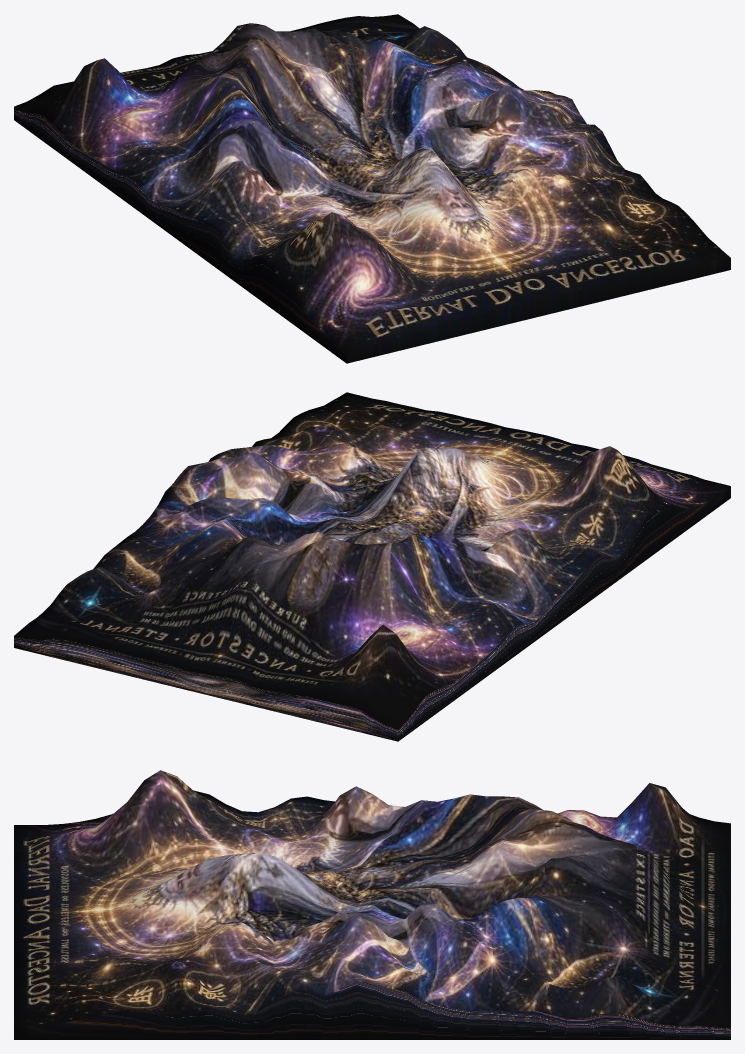
File: REALM_12_Eternal_Dao_Ancestor.glb
3 views of the same model, one above another, from view 1: azimuth 30°, elevation 25°; view 2: azimuth 150°, elevation 25°; view 3: azimuth 270°, elevation 25° (orthographic). The views are drawn at different scales.
Parts seen in each view (by area): view 1: REALM_12_Eternal_Dao_Ancestor; view 2: REALM_12_Eternal_Dao_Ancestor; view 3: REALM_12_Eternal_Dao_Ancestor.
Part boxes in pixels (left/top/right/bottom): REALM_12_Eternal_Dao_Ancestor: left=14, top=14, right=730, bottom=363; REALM_12_Eternal_Dao_Ancestor: left=14, top=392, right=730, bottom=741; REALM_12_Eternal_Dao_Ancestor: left=14, top=770, right=730, bottom=1039.
Size of the model in its own units: 2 by 0.51 by 3.
1 material, 1 textured.
